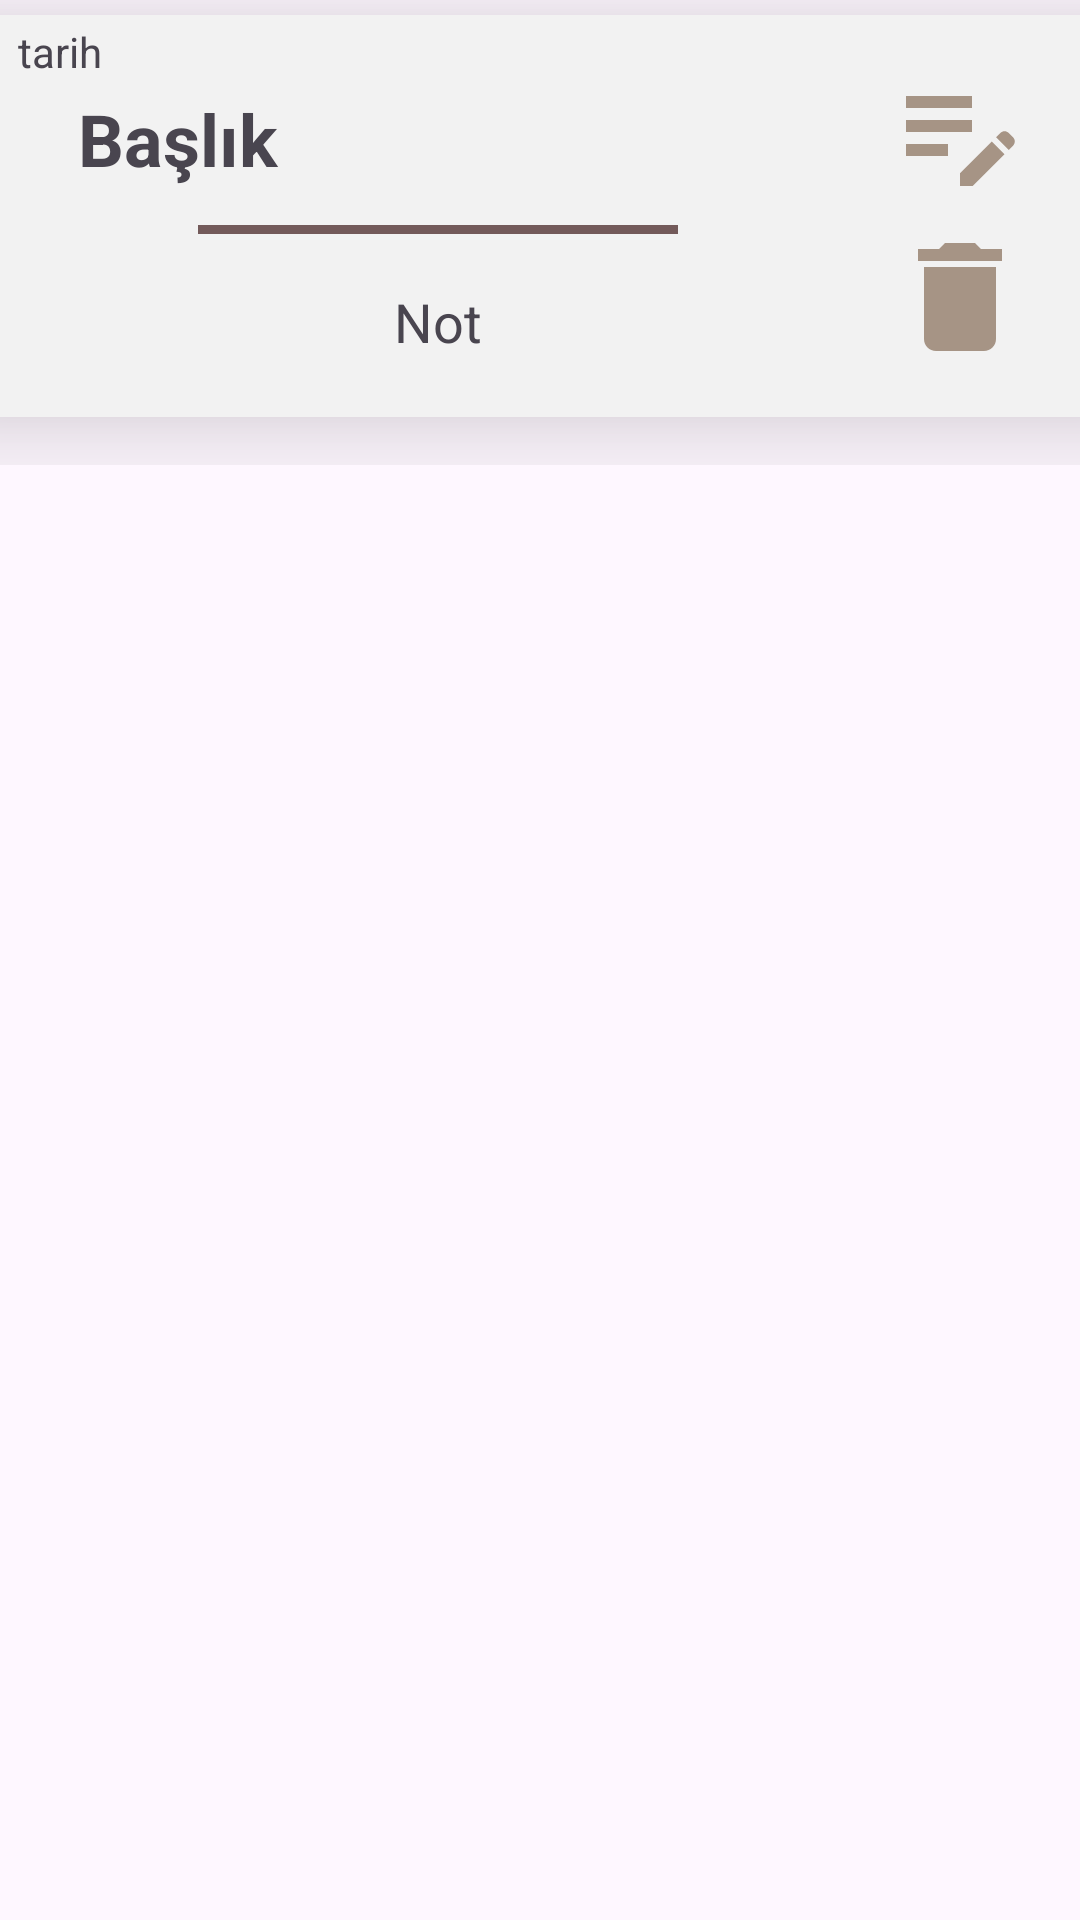

Icons on this 1080w x 1920h Android screen, each with its box as (x1, y1, x2, y2):
edit note: (906, 96, 1015, 186)
